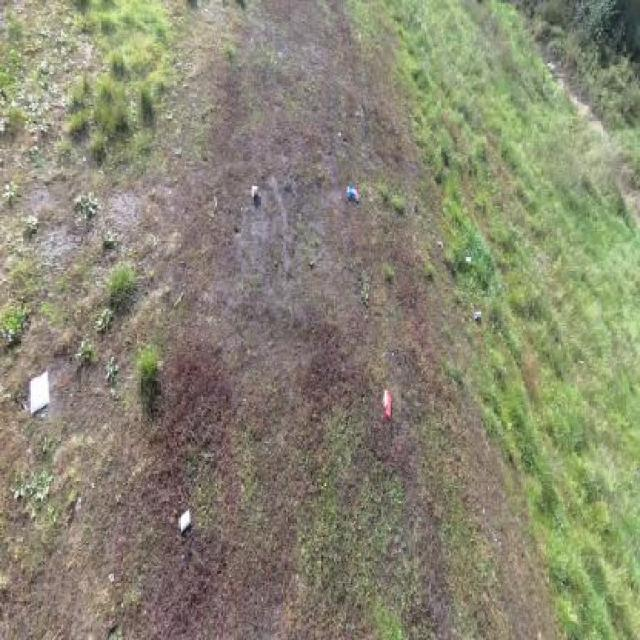Garbage: (29, 369, 50, 415), (178, 508, 191, 535), (383, 386, 392, 421), (346, 186, 359, 202), (252, 184, 259, 198), (464, 257, 472, 265), (474, 311, 482, 318)
